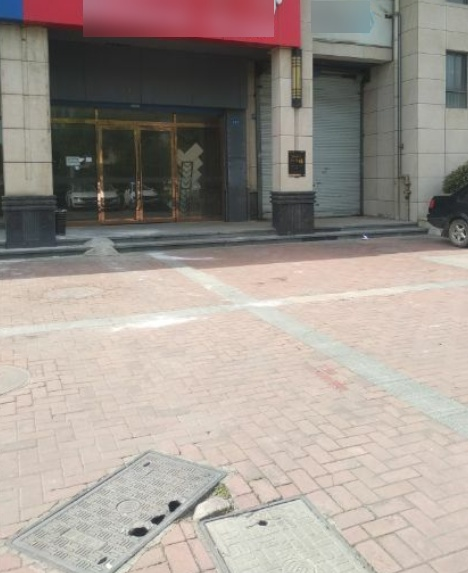broke: (6, 450, 231, 573)
good: (191, 496, 375, 573)
